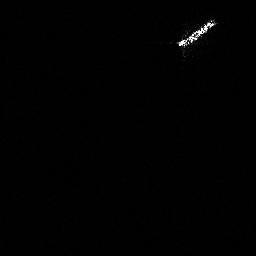ship: (177, 19, 215, 47)
